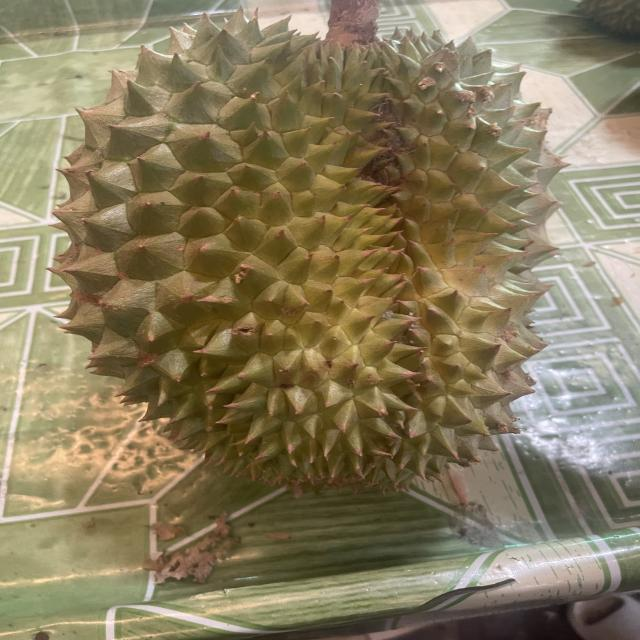mature: (52, 20, 577, 488)
